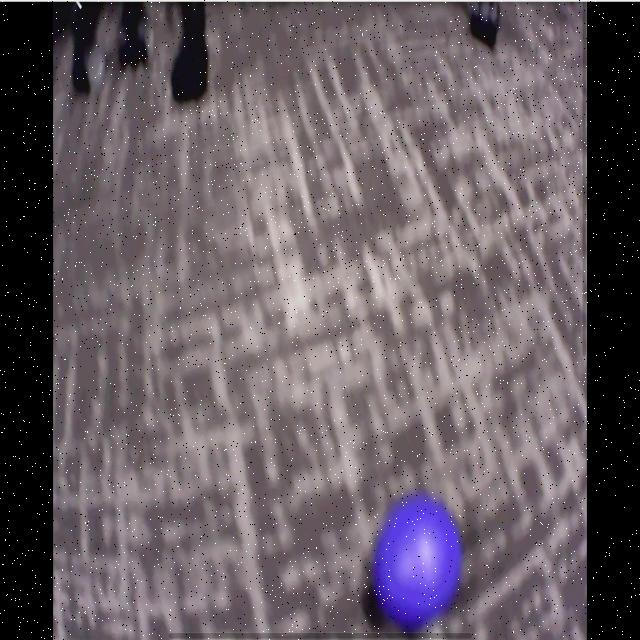ball: (376, 495, 463, 633)
